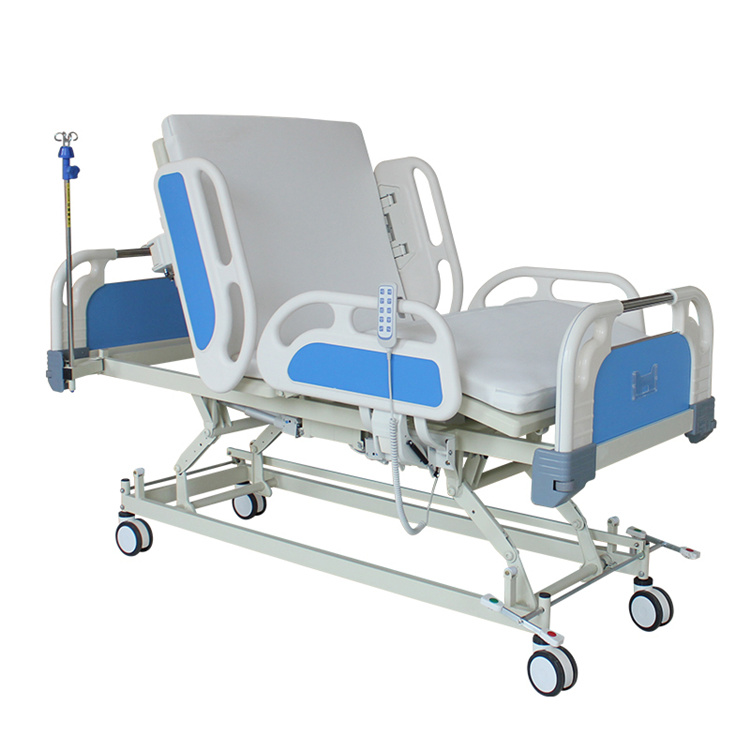trolley_bed: (38, 106, 719, 700)
